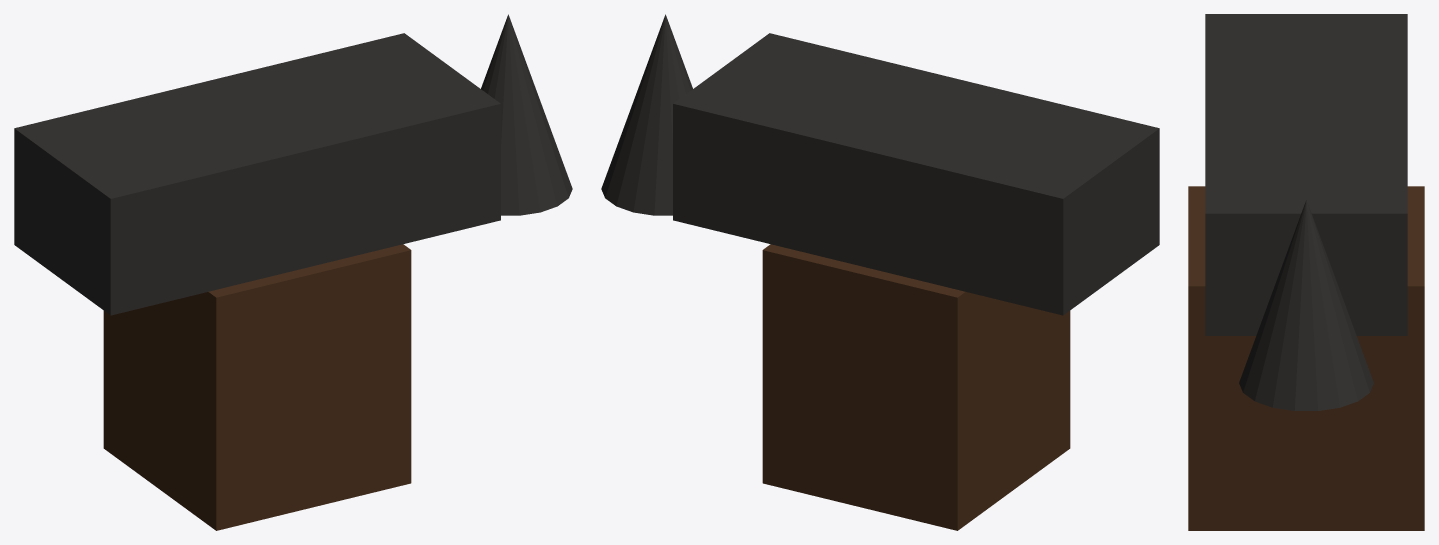
Rendered from anvil.4639f8b7.glb.
The picture shows the model from 3 angles, left to right: view 1: azimuth 30°, elevation 25°; view 2: azimuth 150°, elevation 25°; view 3: azimuth 270°, elevation 25°; orthographic projection. The views are drawn at different scales.
Visible parts, largest first — view 1: body; view 2: body; view 3: body.
Part boxes in pixels (x1,y1,x2,y2): body: (14,14,572,530); body: (601,14,1159,530); body: (1188,14,1424,530).
Size of the model in its own units: 0.8985 by 0.67 by 0.35.
